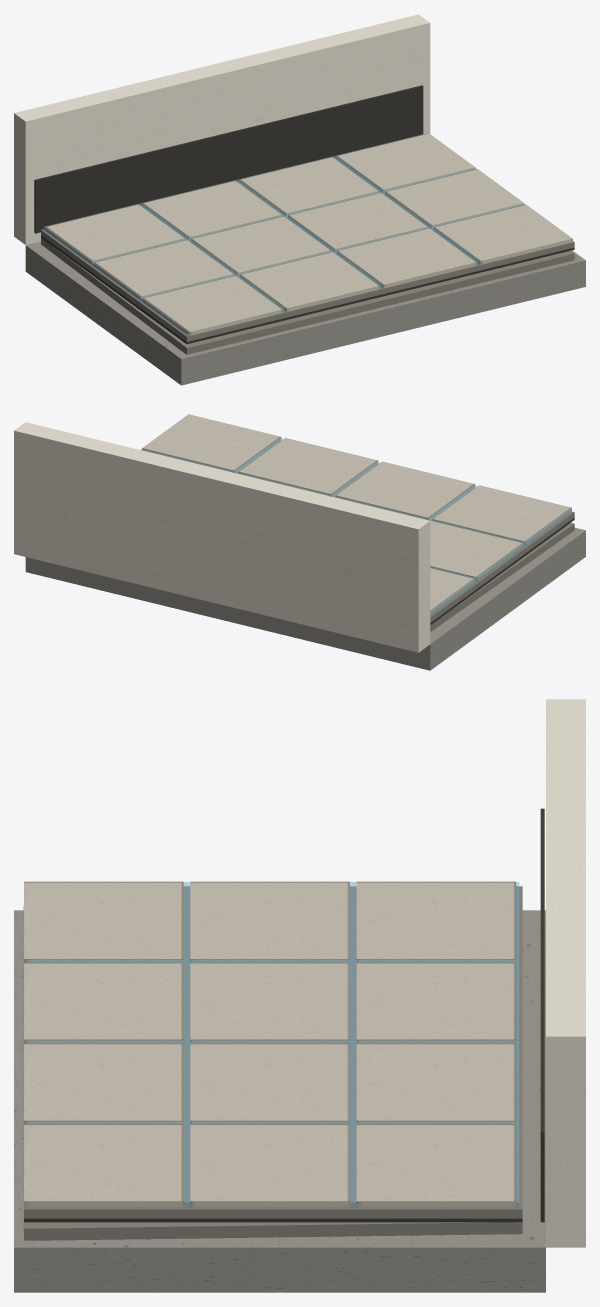
Rendered from chi-tiet-chong-tham.glb.
The picture shows the model from 3 angles, top to bottom: view 1: azimuth 30°, elevation 25°; view 2: azimuth 150°, elevation 25°; view 3: azimuth 270°, elevation 25°; orthographic projection. The views are drawn at different scales.
Parts seen in each view (by area): view 1: step0_1, step2_4, step0_0, step1_2, step5_12, step5_18, step5_9, step5_15, step5_11, step5_7, step5_16, step5_10 (+7 smaller); view 2: step0_1, step0_0, step5_9, step5_15, step5_12, step5_18, step5_8, step3_5, step4_6, step1_2, step5_7, step2_3; view 3: step0_0, step0_1, step5_17, step5_18, step5_16, step5_8, step5_9, step5_11, step5_12, step5_7, step5_10, step4_6 (+7 smaller).
Part boxes in pixels (x1,y1,x2,y2): step0_1: [14, 14, 430, 244]; step2_4: [34, 85, 423, 233]; step0_0: [25, 241, 585, 385]; step1_2: [41, 237, 574, 354]; step5_12: [239, 252, 378, 311]; step5_18: [433, 204, 572, 264]; step5_9: [142, 275, 281, 335]; step5_15: [336, 228, 475, 288]; step5_11: [191, 216, 330, 276]; step5_7: [45, 204, 184, 264]; step5_16: [336, 133, 475, 193]; step5_10: [142, 180, 281, 240]; step0_1: [14, 422, 430, 652]; step0_0: [25, 527, 585, 670]; step5_9: [432, 485, 571, 545]; step5_15: [238, 438, 378, 496]; step5_12: [335, 461, 475, 520]; step5_18: [142, 414, 281, 473]; step5_8: [430, 521, 523, 580]; step3_5: [141, 438, 571, 615]; step4_6: [236, 441, 574, 622]; step1_2: [430, 522, 574, 631]; step5_7: [430, 568, 474, 614]; step2_3: [430, 518, 574, 624]; step0_0: [14, 910, 545, 1292]; step0_1: [546, 699, 585, 1247]; step5_17: [190, 1124, 349, 1207]; step5_18: [24, 1124, 183, 1207]; step5_16: [356, 1124, 515, 1207]; step5_8: [190, 881, 349, 962]; step5_9: [24, 881, 183, 962]; step5_11: [190, 962, 349, 1043]; step5_12: [24, 962, 183, 1043]; step5_7: [356, 881, 515, 962]; step5_10: [356, 962, 515, 1043]; step4_6: [24, 886, 522, 1218].
Bounding box in the file's own units: 2.4 × 0.85 × 1.72.
Materials: 6 (3 with a texture image).
